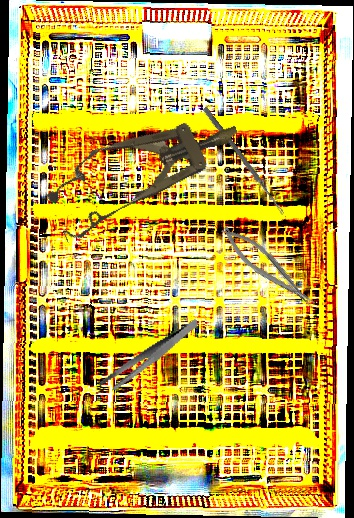Dressing Forceps: (89, 318, 210, 395)
Needle Holder: (215, 217, 320, 318)
Speculum: (37, 93, 253, 247)
Surgical Spoon: (201, 106, 287, 216)
